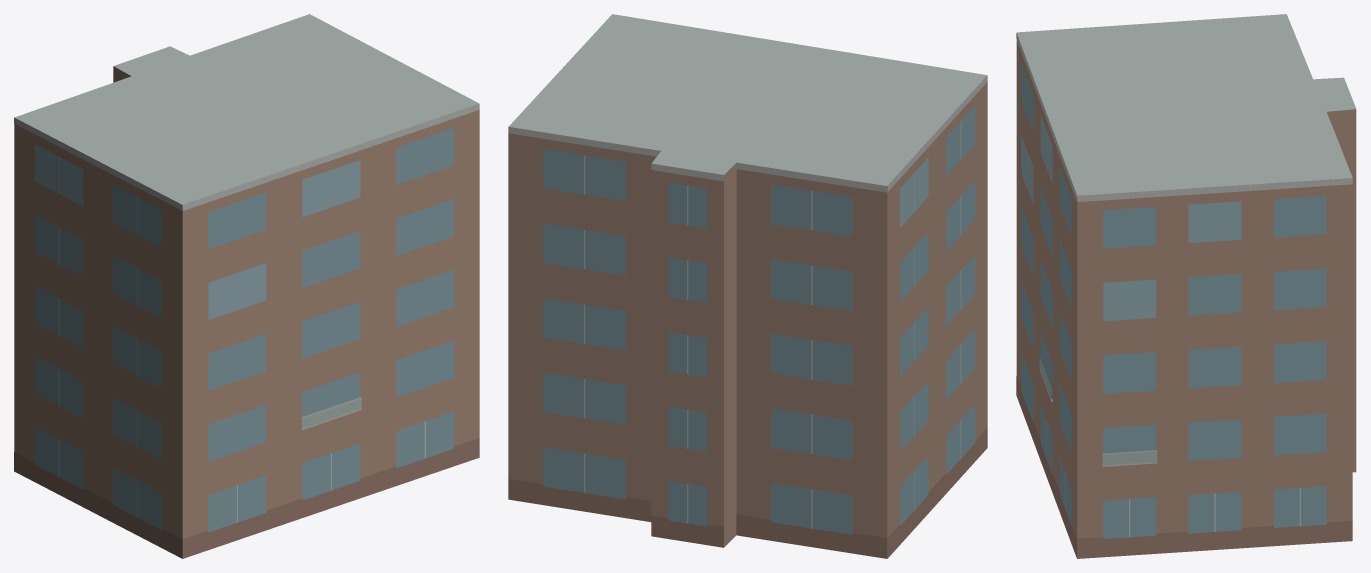
File: survey-upis-32633632.glb
3 renders of one model, left to right at view 1: azimuth 30°, elevation 25°; view 2: azimuth 150°, elevation 25°; view 3: azimuth 270°, elevation 25°, orthographic. The views are drawn at different scales.
Visible parts, largest first — view 1: survey-upis-32633632.tmp; view 2: survey-upis-32633632.tmp; view 3: survey-upis-32633632.tmp.
Part boxes in pixels (x1,y1,x2,y2): survey-upis-32633632.tmp: (14, 14, 479, 558); survey-upis-32633632.tmp: (508, 14, 987, 558); survey-upis-32633632.tmp: (1016, 14, 1356, 558).
Bounding box in the file's own units: 15.1 × 14.05 × 11.94.
